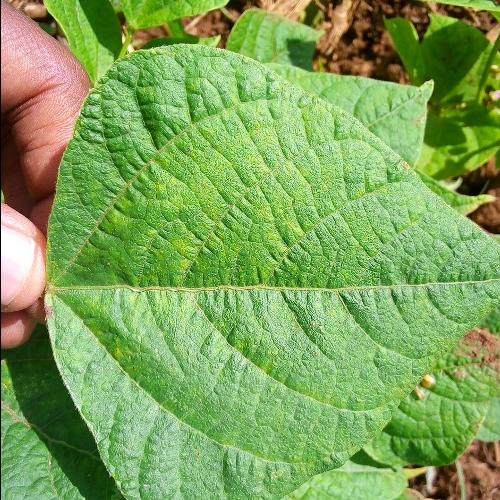sehat: (62, 109, 420, 468)
